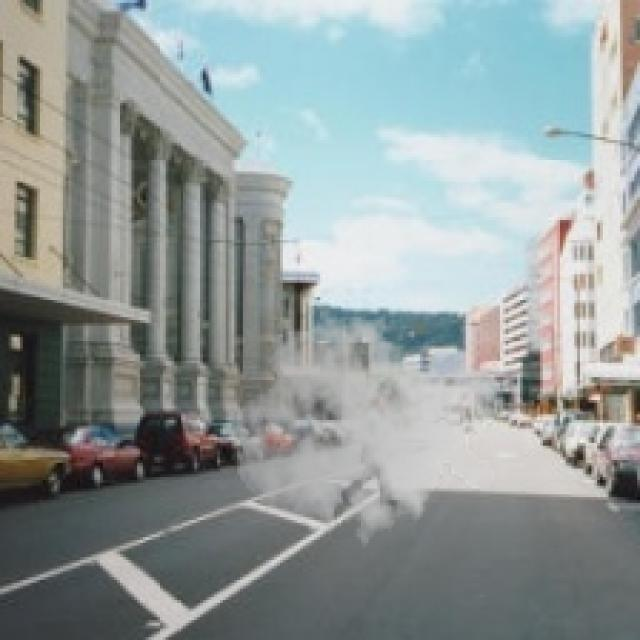Smoke: (231, 300, 506, 560)
